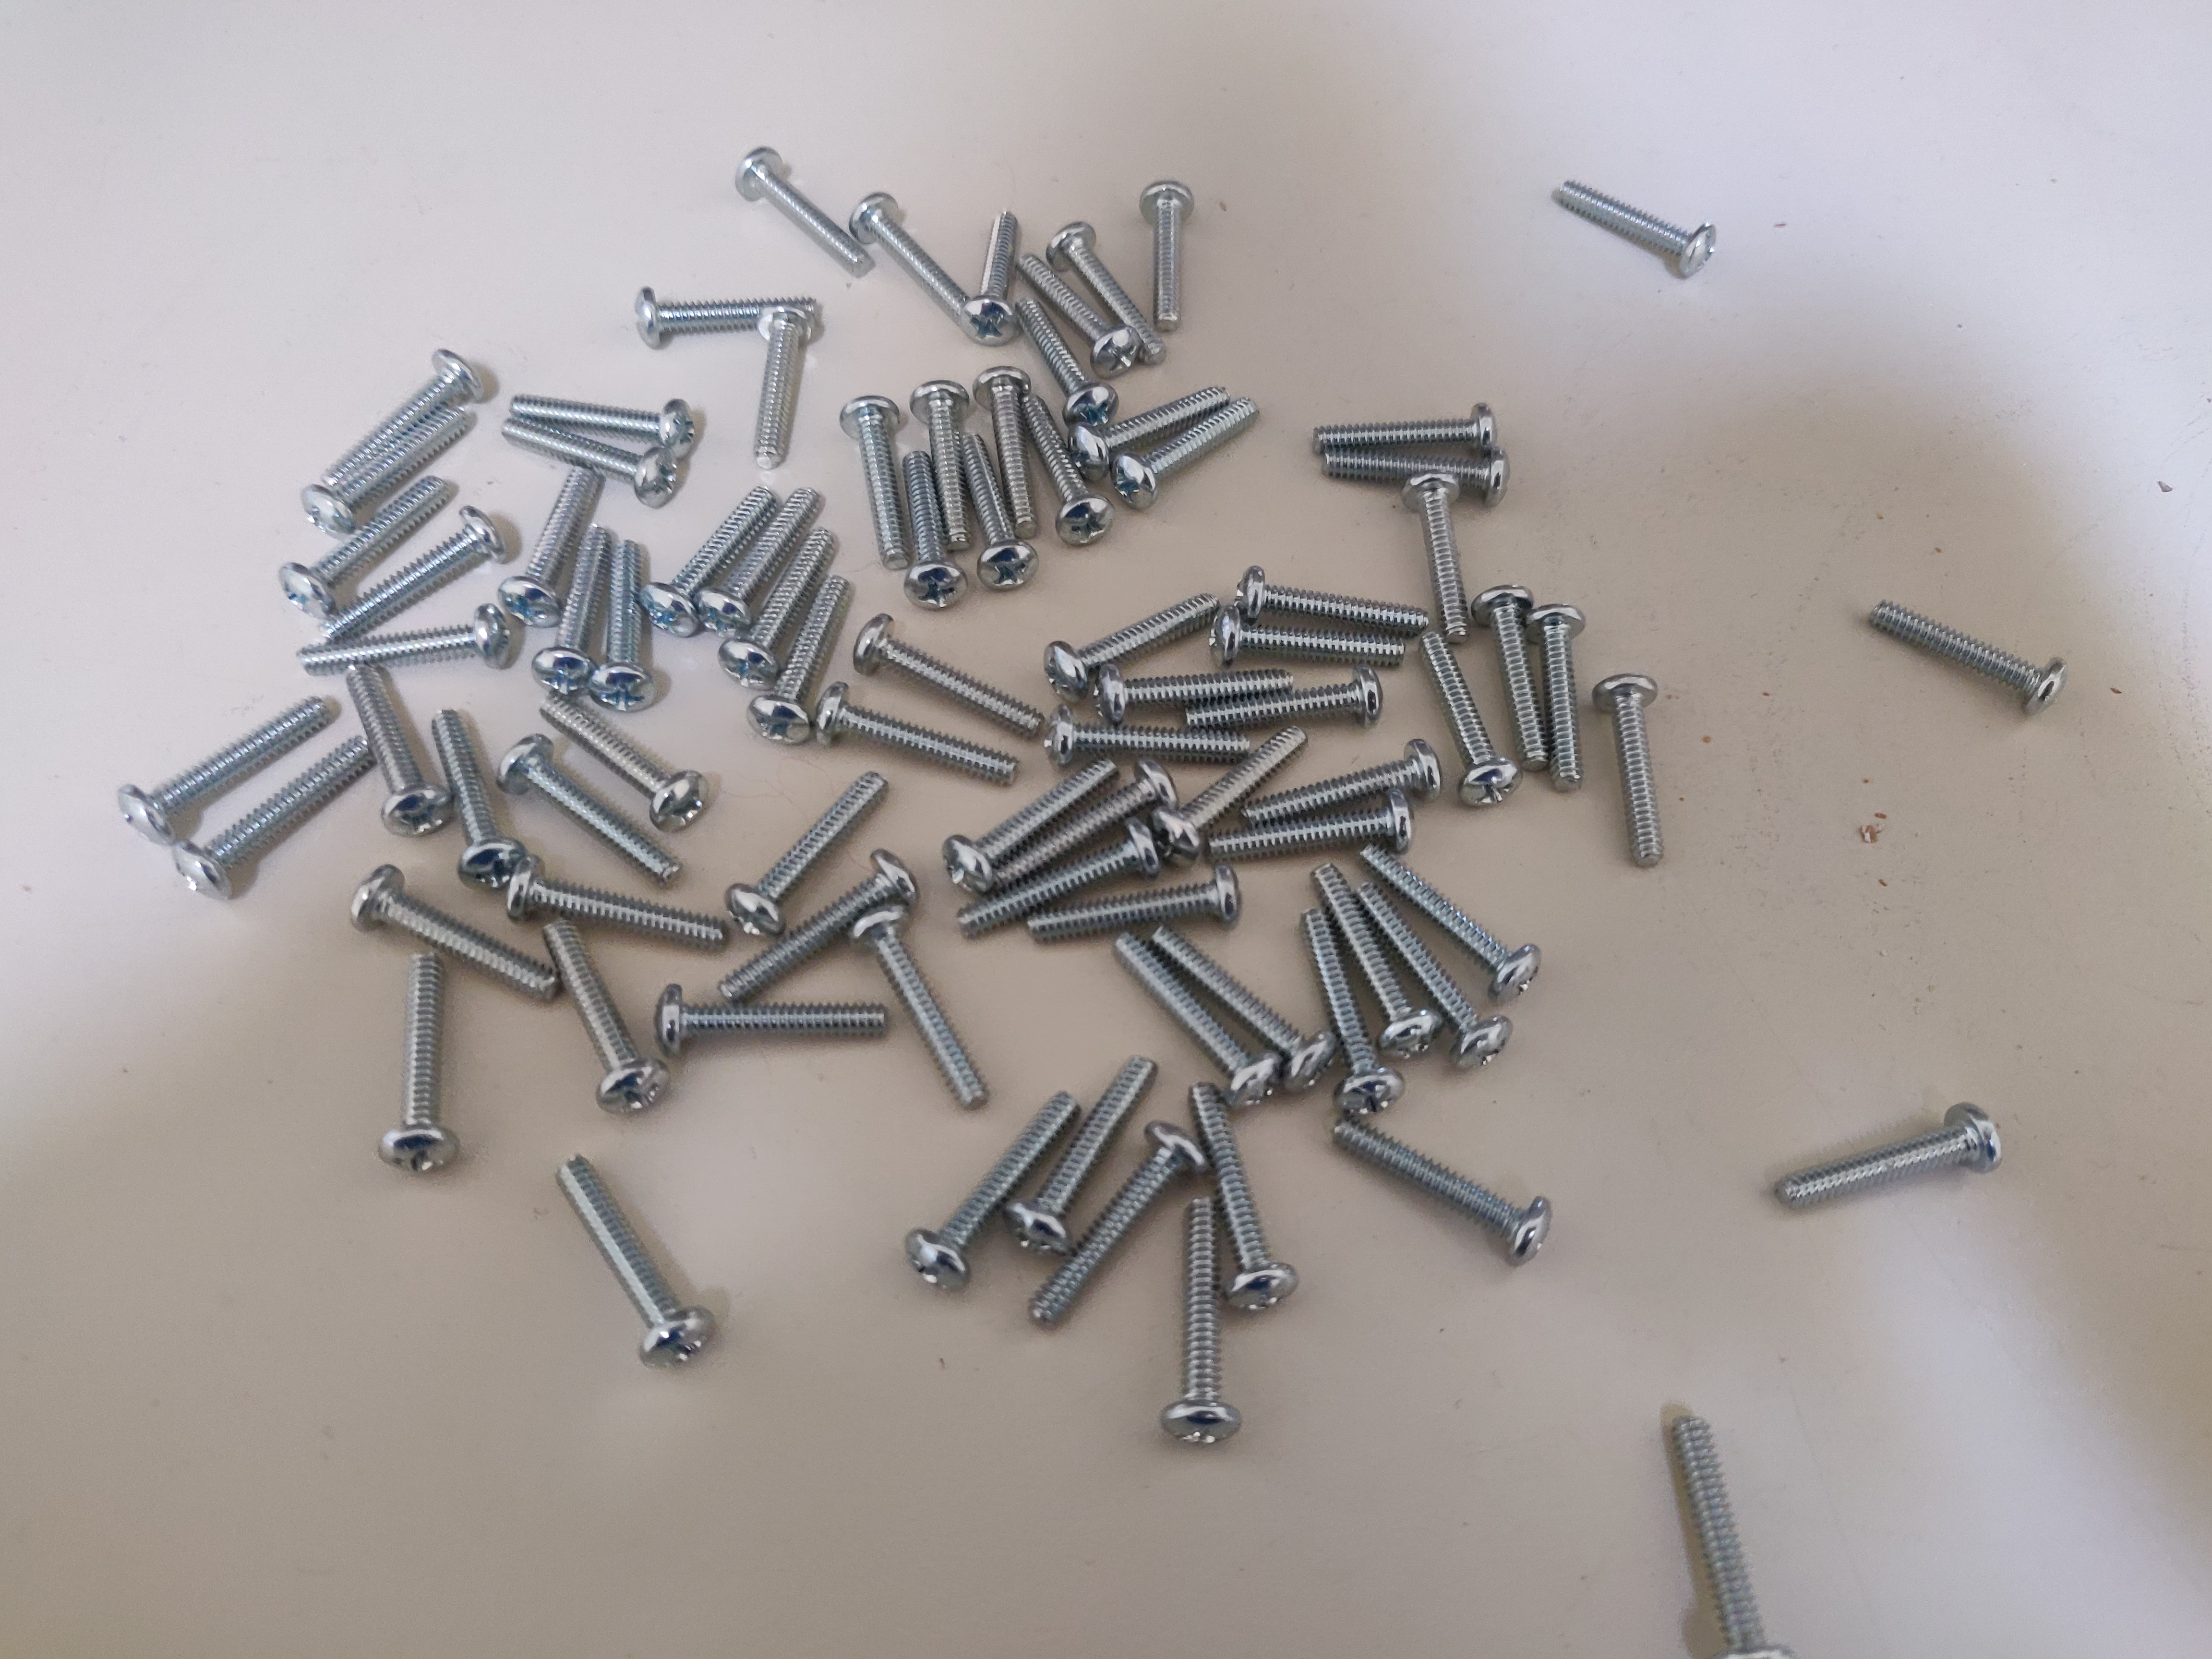longscrew: (914, 1087, 1085, 1290), (547, 1162, 707, 1373), (502, 915, 662, 1124), (1035, 1127, 1195, 1326), (1157, 924, 1338, 1091), (1099, 936, 1278, 1103), (1332, 1122, 1550, 1260), (1360, 843, 1545, 995), (503, 727, 671, 892), (1017, 1047, 1155, 1246), (122, 685, 317, 823), (1193, 1077, 1299, 1323), (1670, 1425, 1782, 1659), (1362, 882, 1505, 1063), (721, 863, 913, 997), (1144, 1190, 1249, 1436), (190, 744, 368, 885), (303, 389, 484, 526), (315, 511, 495, 648), (284, 477, 463, 615), (303, 342, 482, 479), (348, 882, 556, 999), (864, 917, 984, 1114), (512, 859, 718, 974), (1865, 582, 2059, 704), (536, 694, 711, 828), (380, 958, 486, 1176), (1775, 1107, 2003, 1206), (1285, 911, 1393, 1114), (1322, 852, 1430, 1054), (857, 612, 1055, 720), (817, 688, 1015, 796), (738, 770, 883, 918), (1158, 716, 1312, 852), (1007, 763, 1174, 887), (946, 762, 1113, 884), (1045, 577, 1224, 687), (967, 828, 1157, 931), (1038, 854, 1238, 950), (1249, 737, 1449, 833), (1217, 795, 1418, 890), (712, 532, 841, 680), (340, 669, 448, 845), (428, 711, 533, 892), (651, 479, 779, 626), (700, 479, 827, 626), (738, 582, 866, 728), (730, 143, 869, 268), (846, 190, 986, 315), (503, 411, 683, 507), (1536, 179, 1716, 274), (1420, 636, 1515, 805), (1111, 401, 1268, 500), (296, 610, 516, 678), (1069, 380, 1245, 464), (655, 990, 902, 1049), (1595, 678, 1667, 875), (1022, 244, 1132, 366), (1049, 225, 1158, 347), (1017, 296, 1120, 425), (1238, 558, 1425, 626), (1031, 392, 1113, 545), (1204, 612, 1421, 669), (749, 293, 819, 472), (981, 354, 1050, 533), (836, 385, 906, 563), (963, 429, 1033, 606), (909, 361, 977, 540), (892, 436, 960, 613), (536, 523, 603, 697), (1480, 586, 1540, 777), (594, 535, 658, 709), (1482, 586, 1540, 779), (512, 385, 698, 444), (510, 460, 577, 624), (1313, 403, 1501, 458), (1332, 437, 1521, 493), (1042, 714, 1268, 758), (1414, 464, 1467, 652), (1087, 667, 1312, 711), (1179, 678, 1404, 721), (622, 289, 826, 335), (963, 197, 1012, 350), (1151, 174, 1193, 331)
